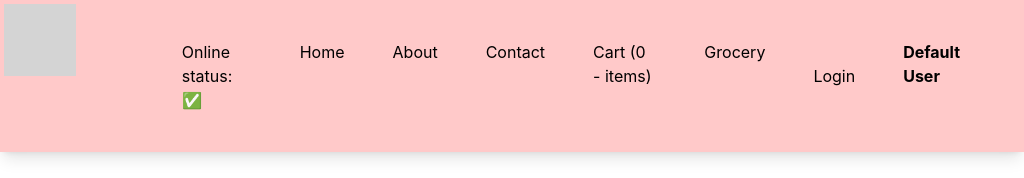
Test: Header Component with Authentication Button › Should update as Login when clicked on Logout
Click the button "Login". click: [834, 76]
box: [789,40,879,112]
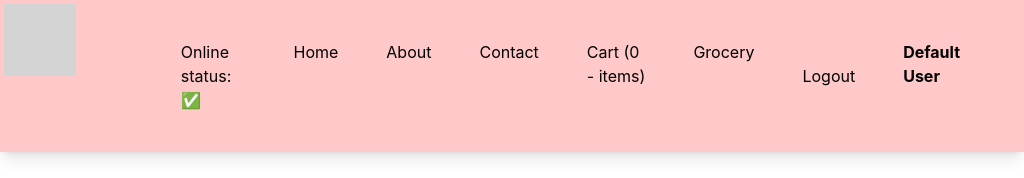
Click the button named "Login". click: [829, 76]
box: [778,40,879,112]
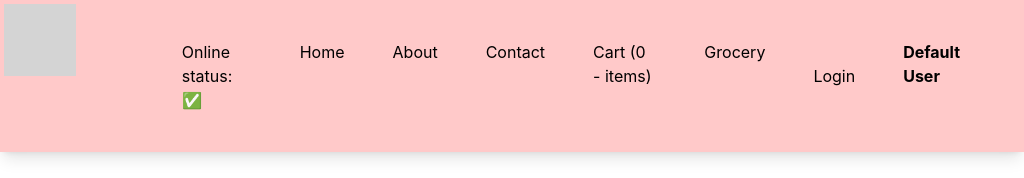
Check: the button "Login" is shown, box [789,40,879,112]
